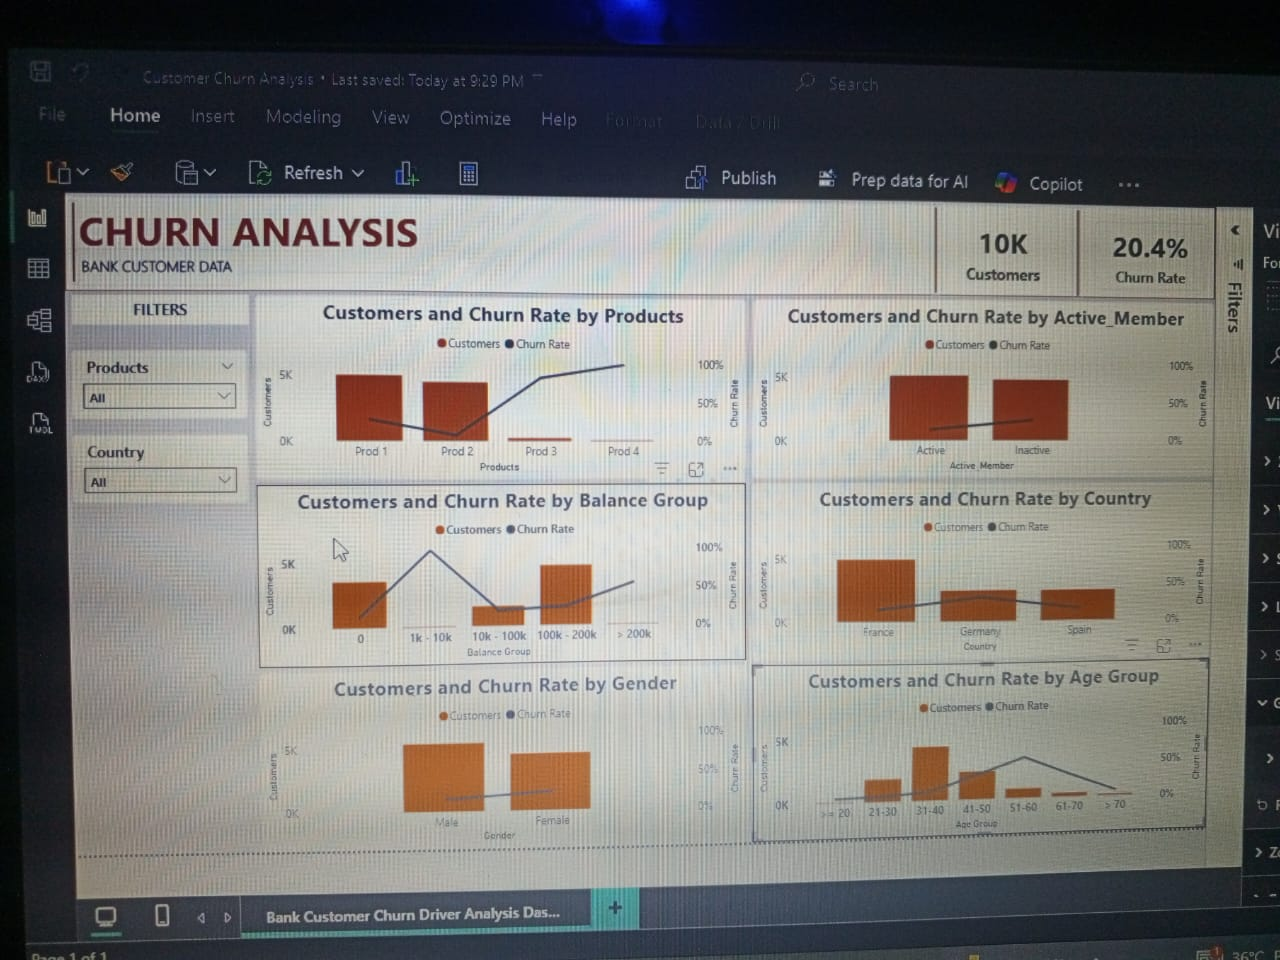

Layout of this report page (visuals, bound fields, positions):
{"tool":"powerbi","page":{"name":"Bank Customer Churn Driver Analysis Dashboard","canvas":[1280,720],"ordinal":0},"visuals":[{"type":"shape","box":[0,0,1279.8,105.8],"z":0},{"type":"card","fields":{"Values":["Customer Information.Customers"]},"box":[956.6,16.5,141.8,81.2],"z":1000},{"type":"lineStackedColumnComboChart","fields":{"Category":["Customer Information.Gender"],"Y":["Customer Information.Customers"],"Y2":["Customer Information.Churn Rate"]},"box":[202.3,520.3,535.4,199],"z":2000},{"type":"lineStackedColumnComboChart","fields":{"Category":["Customer Information.Country"],"Y":["Customer Information.Customers"],"Y2":["Customer Information.Churn Rate"]},"box":[744.6,315.2,535.4,199.6],"z":3000},{"type":"lineStackedColumnComboChart","fields":{"Category":["Customer Information.Active_Member"],"Y":["Customer Information.Customers"],"Y2":["Customer Information.Churn Rate"]},"box":[744.6,110.1,535.4,199.6],"z":4000},{"type":"lineStackedColumnComboChart","fields":{"Category":["Customer Information.Products"],"Y":["Customer Information.Customers"],"Y2":["Customer Information.Churn Rate"]},"box":[202.3,110.1,535.4,199.6],"z":5000},{"type":"lineClusteredColumnComboChart","fields":{"Y":["Customer Information.Customers"],"Category":["Age Group ID.Age Group"],"Y2":["Customer Information.Churn Rate"]},"box":[744.6,520.3,535.4,199.6],"z":6000},{"type":"lineClusteredColumnComboChart","fields":{"Y":["Customer Information.Customers"],"Y2":["Customer Information.Churn Rate"],"Category":["Balance Group ID.Balance Group"]},"box":[202.3,315.2,535,199.6],"z":7000},{"type":"textbox","box":[7.3,4.4,383.5,82.3],"z":9000},{"type":"textbox","box":[10.3,60.2,179.3,39.7],"z":10000},{"type":"shape","box":[942.8,4.1,13.8,101.8],"z":11000},{"type":"shape","box":[1108,4.1,15.1,103.2],"z":12000},{"type":"shape","box":[2.9,8.8,13.2,91.1],"z":13000},{"type":"card","fields":{"Values":["Customer Information.Churn Rate"]},"box":[1135.5,19.3,133.5,77.1],"z":15000},{"type":"shape","title":"FILTERS","box":[6.9,110.1,188.6,31.7],"z":16000},{"type":"slicer","fields":{"Values":["Customer Information.Products"]},"box":[5.5,169.3,188.6,74.3],"z":17000},{"type":"slicer","fields":{"Values":["Customer Information.Country"]},"box":[5.5,260.1,188.6,74.3],"z":17001}]}

Visuals, with their boxes on the page's 1280x720 design canvas (x1, y1, x2, y2). These are canvas units, not pixel positions in the 1280x960 screenshot, which may show the page scaled, cropped or inside an application window:
shape: Rect(0, 0, 1280, 106)
card - Customer Information.Customers: Rect(957, 16, 1098, 98)
lineStackedColumnComboChart - Customer Information.Gender x Customer Information.Customers: Rect(202, 520, 738, 719)
lineStackedColumnComboChart - Customer Information.Country x Customer Information.Customers: Rect(745, 315, 1280, 515)
lineStackedColumnComboChart - Customer Information.Active_Member x Customer Information.Customers: Rect(745, 110, 1280, 310)
lineStackedColumnComboChart - Customer Information.Products x Customer Information.Customers: Rect(202, 110, 738, 310)
lineClusteredColumnComboChart - Customer Information.Customers x Age Group ID.Age Group: Rect(745, 520, 1280, 720)
lineClusteredColumnComboChart - Customer Information.Customers x Customer Information.Churn Rate: Rect(202, 315, 737, 515)
textbox: Rect(7, 4, 391, 87)
textbox: Rect(10, 60, 190, 100)
shape: Rect(943, 4, 957, 106)
shape: Rect(1108, 4, 1123, 107)
shape: Rect(3, 9, 16, 100)
card - Customer Information.Churn Rate: Rect(1136, 19, 1269, 96)
"FILTERS" shape: Rect(7, 110, 196, 142)
slicer - Customer Information.Products: Rect(6, 169, 194, 244)
slicer - Customer Information.Country: Rect(6, 260, 194, 334)
